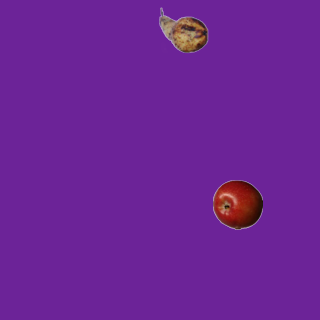Apple Braeburn: (212, 179, 262, 229)
Pear Abate: (158, 5, 208, 55)
